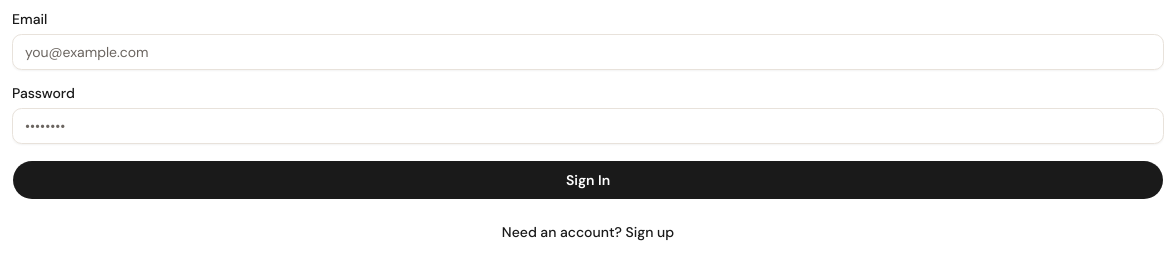
Test: AuthForm › should toggle to sign up mode
Click the button "Need an account? Sign up". click: (588, 232)
box: 12,216 -> 1164,248
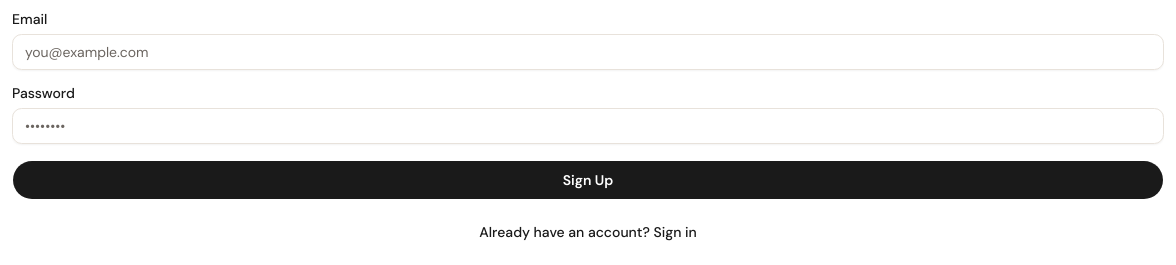
Result: the button "Sign Up" is shown at 12,160 -> 1164,200
Result: the button "Already have an account? Sign in" is shown at 12,216 -> 1164,248
